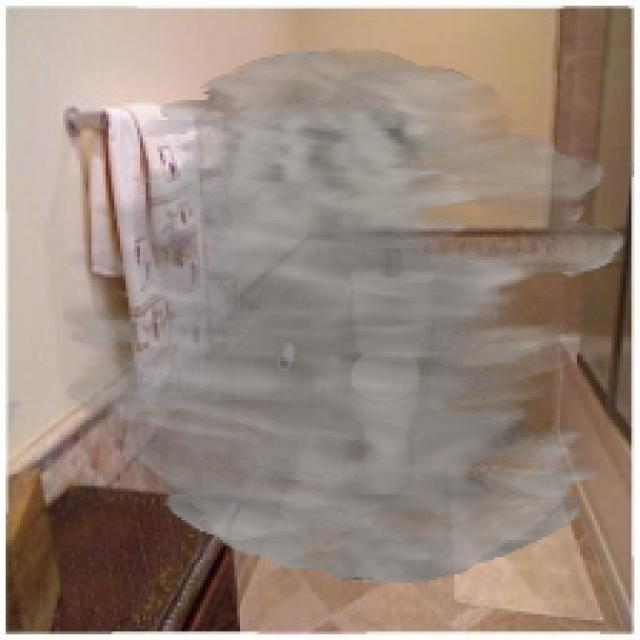smoke: (63, 48, 626, 583)
